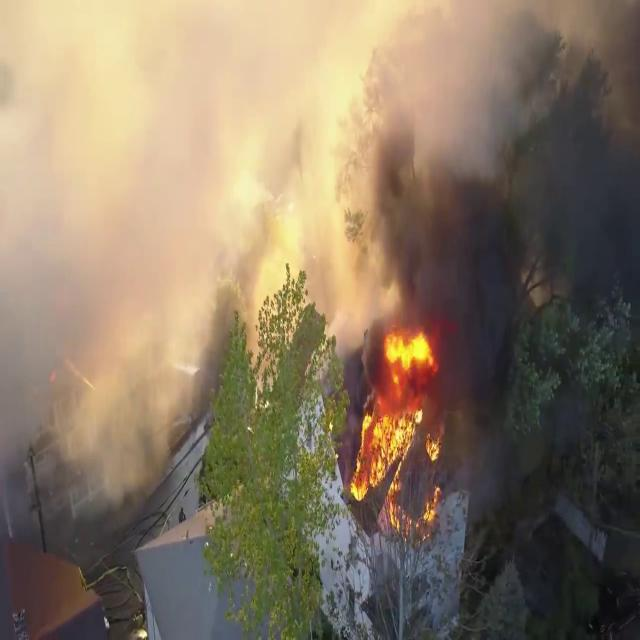Fire: (354, 324, 448, 527)
Smoke: (0, 0, 328, 512), (332, 0, 640, 382)
